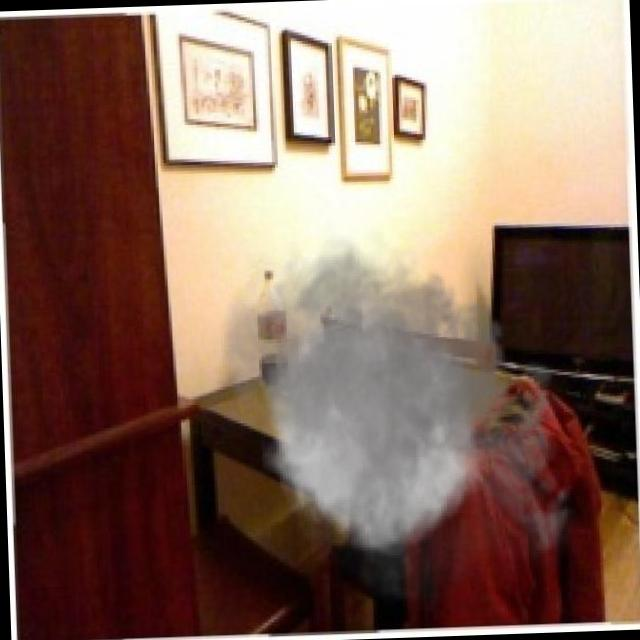Smoke: (203, 214, 585, 630)
